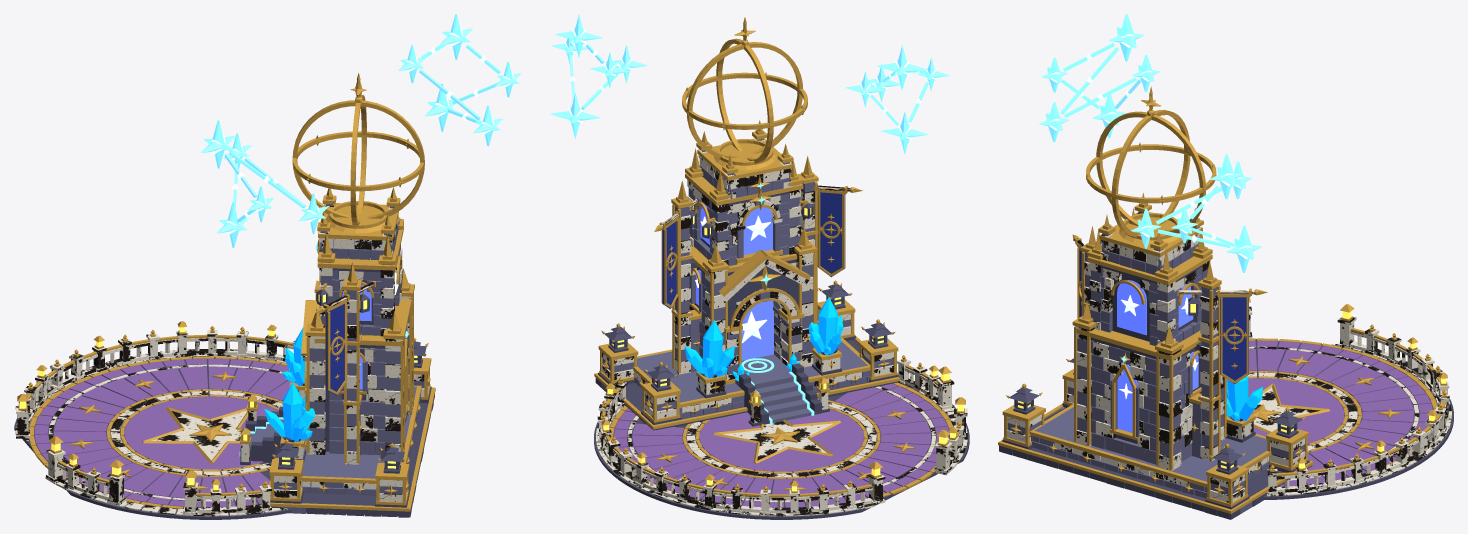
File: ILHA1_05_SUMMON_203d27.fbx
3 views of the same model, side by side, from view 1: azimuth 30°, elevation 25°; view 2: azimuth 150°, elevation 25°; view 3: azimuth 270°, elevation 25° (orthographic). The views are drawn at different scales.
Visible parts, largest first — view 1: SUM_Plaza_Floor__Summon_Floor, SUM_Tower_Gold__Metal_Gold, SUM_Tower_Stone__Summon_Stone, SUM_Tower_Stone__Stone_SumBlock, SUM_Plaza_Rail__Stone_Wall_Light, SUM_Tower_Stone__Summon_Stone_Dark, SUM_Constellation__Summon_Blue_Glow, SUM_Sphere_Frame__Metal_Gold, SUM_Plaza_Floor__Metal_Gold, SUM_Plaza_Floor__Stone_SumFloor_Pale, SUM_Plaza_Rail__Stone_Wall_Light_C, SUM_Plaza_Rail__Metal_Gold (+5 smaller); view 2: SUM_Tower_Gold__Metal_Gold, SUM_Plaza_Floor__Summon_Floor, SUM_Tower_Stone__Summon_Stone, SUM_Tower_Stone__Stone_SumBlock, SUM_Tower_Stone__Summon_Stone_Dark, SUM_Plaza_Rail__Stone_Wall_Light, SUM_Sphere_Frame__Metal_Gold, SUM_Constellation__Summon_Blue_Glow, SUM_Plaza_Floor__Stone_SumFloor_Pale, SUM_Plaza_Floor__Metal_Gold, SUM_Crystals__Crystal_Blue, SUM_Banners__Cloth_Royal_Blue (+9 smaller); view 3: SUM_Tower_Gold__Metal_Gold, SUM_Tower_Stone__Summon_Stone, SUM_Plaza_Floor__Summon_Floor, SUM_Tower_Stone__Stone_SumBlock, SUM_Constellation__Summon_Blue_Glow, SUM_Tower_Stone__Summon_Stone_Dark, SUM_Sphere_Frame__Metal_Gold, SUM_Plaza_Rail__Stone_Wall_Light, SUM_Plaza_Floor__Metal_Gold, SUM_Plaza_Floor__Stone_SumFloor_Pale, SUM_Tower_Glow__Crystal_SumPortal_Glow, SUM_Banners__Cloth_Royal_Blue (+6 smaller).
Boxes of the visible parts, x1,y1,x2,y2 form: SUM_Plaza_Floor__Summon_Floor: [34, 358, 291, 507]; SUM_Tower_Gold__Metal_Gold: [240, 187, 435, 511]; SUM_Tower_Stone__Summon_Stone: [249, 204, 424, 513]; SUM_Tower_Stone__Stone_SumBlock: [241, 204, 428, 501]; SUM_Plaza_Rail__Stone_Wall_Light: [15, 330, 295, 515]; SUM_Tower_Stone__Summon_Stone_Dark: [240, 239, 434, 517]; SUM_Constellation__Summon_Blue_Glow: [201, 14, 521, 247]; SUM_Sphere_Frame__Metal_Gold: [292, 73, 424, 227]; SUM_Plaza_Floor__Metal_Gold: [29, 356, 287, 509]; SUM_Plaza_Floor__Stone_SumFloor_Pale: [48, 364, 282, 501]; SUM_Plaza_Rail__Stone_Wall_Light_C: [18, 333, 278, 514]; SUM_Plaza_Rail__Metal_Gold: [17, 321, 293, 496]; SUM_Tower_Gold__Metal_Gold: [594, 120, 900, 429]; SUM_Plaza_Floor__Summon_Floor: [614, 383, 949, 507]; SUM_Tower_Stone__Summon_Stone: [602, 138, 893, 423]; SUM_Tower_Stone__Stone_SumBlock: [601, 138, 893, 423]; SUM_Tower_Stone__Summon_Stone_Dark: [595, 185, 898, 430]; SUM_Plaza_Rail__Stone_Wall_Light: [597, 359, 964, 514]; SUM_Sphere_Frame__Metal_Gold: [682, 17, 807, 163]; SUM_Constellation__Summon_Blue_Glow: [550, 14, 949, 154]; SUM_Plaza_Floor__Stone_SumFloor_Pale: [627, 386, 935, 502]; SUM_Plaza_Floor__Metal_Gold: [610, 382, 953, 496]; SUM_Crystals__Crystal_Blue: [684, 297, 843, 380]; SUM_Banners__Cloth_Royal_Blue: [662, 192, 845, 308]; SUM_Tower_Gold__Metal_Gold: [998, 193, 1313, 513]; SUM_Tower_Stone__Summon_Stone: [1007, 211, 1304, 514]; SUM_Plaza_Floor__Summon_Floor: [1226, 340, 1432, 486]; SUM_Tower_Stone__Stone_SumBlock: [1007, 212, 1305, 502]; SUM_Constellation__Summon_Blue_Glow: [1039, 14, 1261, 272]; SUM_Tower_Stone__Summon_Stone_Dark: [999, 265, 1312, 519]; SUM_Sphere_Frame__Metal_Gold: [1086, 86, 1216, 237]; SUM_Plaza_Rail__Stone_Wall_Light: [1249, 316, 1449, 494]; SUM_Plaza_Floor__Metal_Gold: [1226, 338, 1437, 473]; SUM_Plaza_Floor__Stone_SumFloor_Pale: [1247, 346, 1419, 480]; SUM_Tower_Glow__Crystal_SumPortal_Glow: [1117, 280, 1198, 432]; SUM_Banners__Cloth_Royal_Blue: [1079, 249, 1248, 384].
Bounding box in the file's own units: 73.64 × 60.6 × 66.17.
12 materials, 2 textured.
